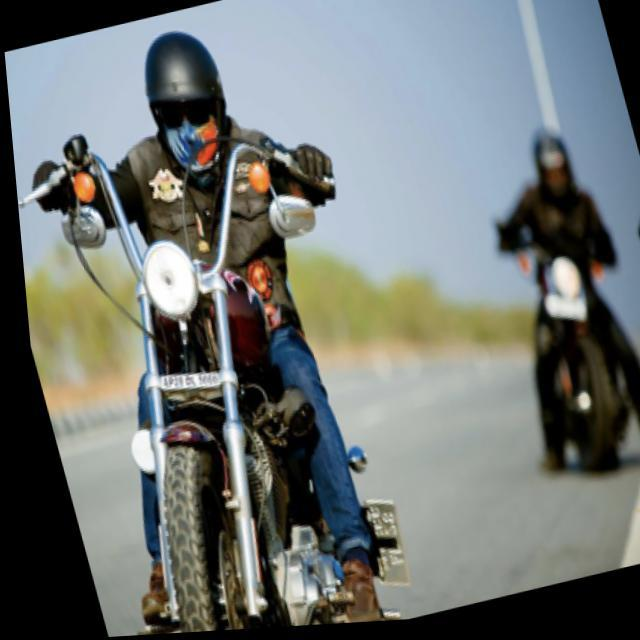Helmet: (140, 24, 242, 176)
